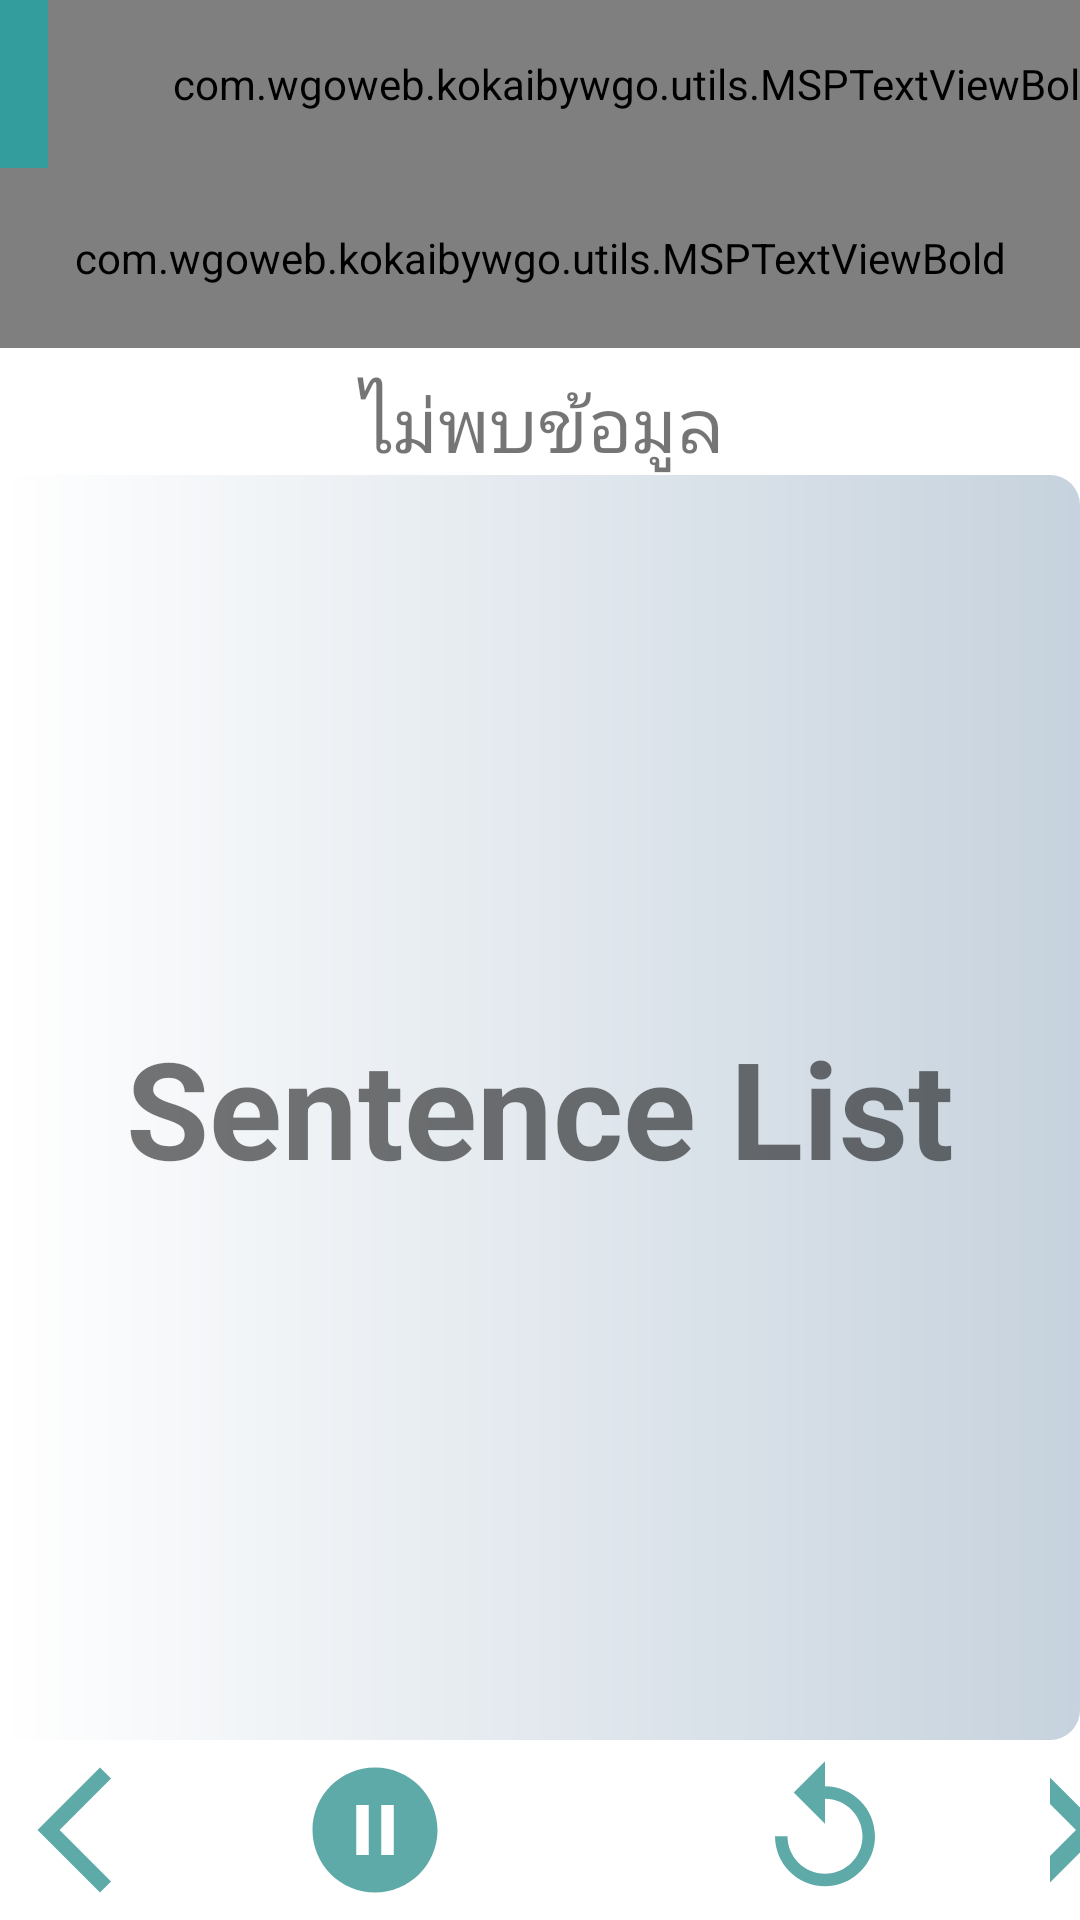

Screen size 1080px×1920px. Icon name, then its box in pixels as (x1, y1, x2, y2):
tts pause: (312, 1767, 438, 1893)
tts play back: (38, 1768, 111, 1892)
